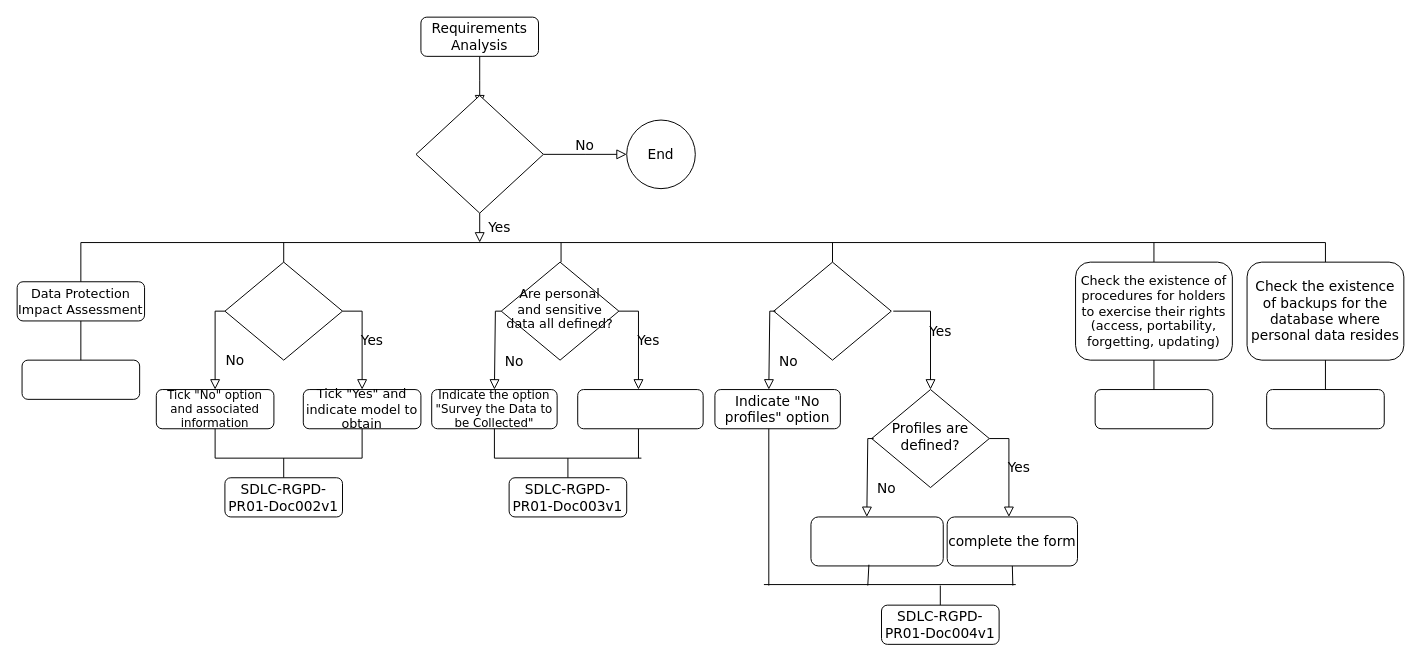
The diagram is 1421 pixels wide and 662 high, and some of its shapes have lost their labels. The shapes that lost their labels are listed below. From the top down, each one's centre as x and y in pixels, then its label:
pixel 479 154: Involves Personal / Sensitive data?
pixel 283 310: Is there an explicit consent model?
pixel 832 310: Are there different user profiles?
pixel 80 379: SDLC-RGPD-PR01-Doc001v1
pixel 640 409: complete the forms
pixel 1153 409: SDLC-RGPD-PR01-Doc005v1
pixel 1325 409: SDLC-RGPD-PR01-Doc006v1
pixel 876 541: Indicate the option "Identify Profiles and Access Levels"
